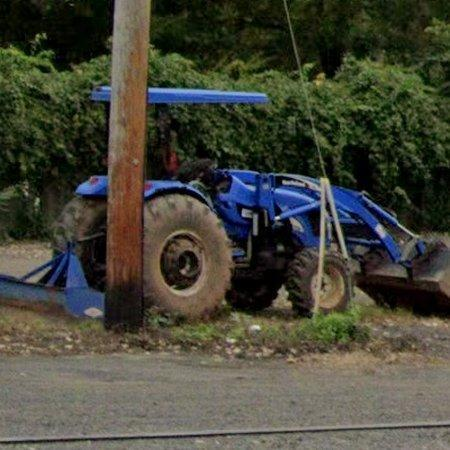tractors: (144, 164, 450, 320), (0, 176, 108, 319)
